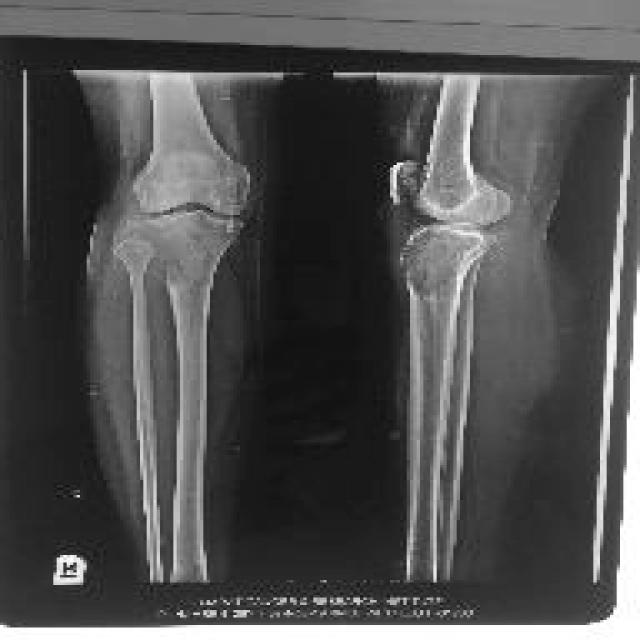bone-cancer: (123, 216, 218, 290), (398, 228, 493, 302)
